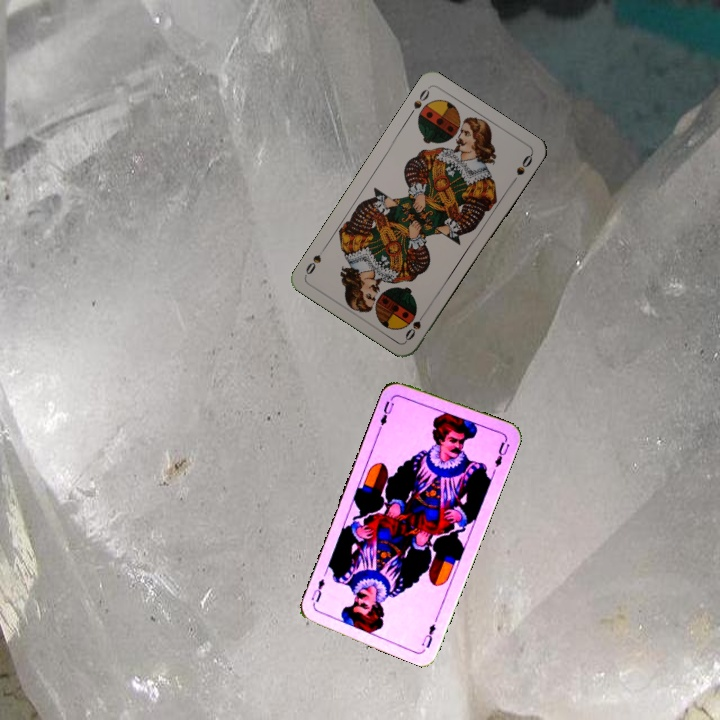EU: (375, 392, 397, 431), (417, 620, 438, 651)
SO: (401, 307, 429, 343), (405, 84, 432, 120)
